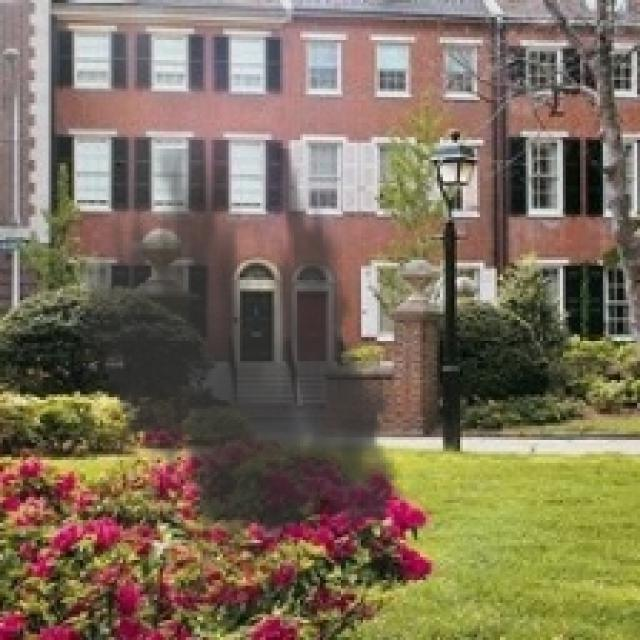Smoke: (66, 148, 414, 566)
